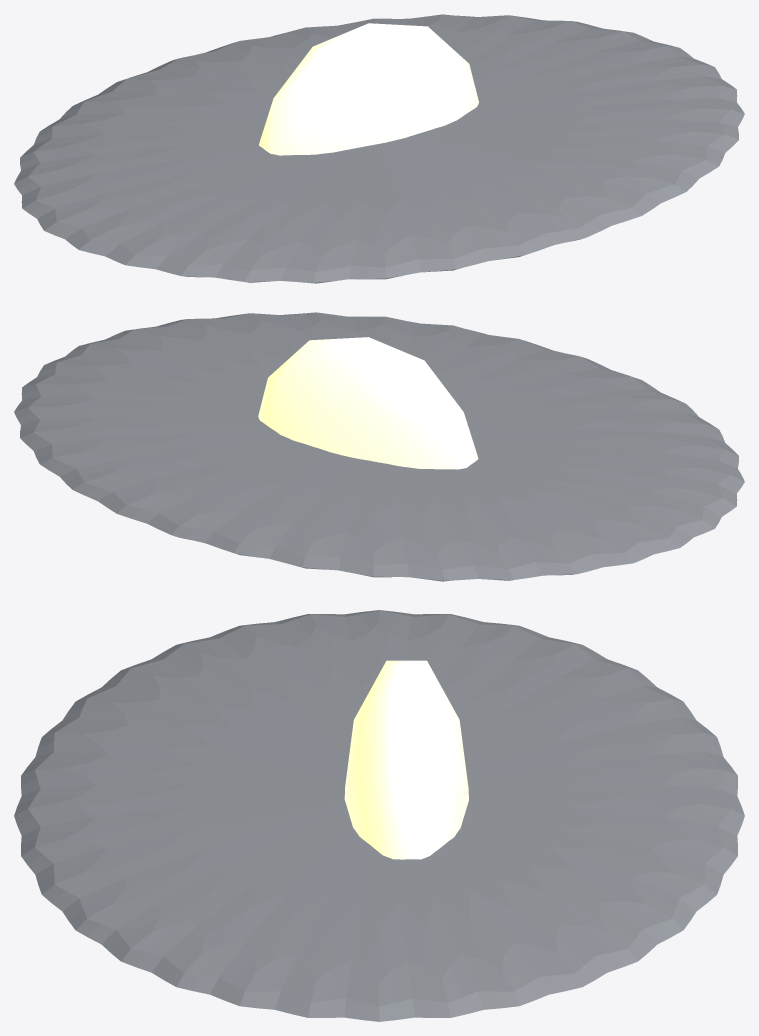
The model's file is ancient_rune_shield.glb.
3 views of the same model, one above another, from view 1: azimuth 30°, elevation 25°; view 2: azimuth 150°, elevation 25°; view 3: azimuth 270°, elevation 25° (orthographic). The views are drawn at different scales.
Parts seen in each view (by area): view 1: Cylinder, Icosphere; view 2: Cylinder, Icosphere; view 3: Cylinder, Icosphere.
Part boxes in pixels (x1,y1,x2,y2): Cylinder: (14, 14, 744, 283); Icosphere: (259, 23, 478, 155); Cylinder: (14, 312, 744, 581); Icosphere: (258, 337, 478, 469); Cylinder: (14, 610, 744, 1021); Icosphere: (344, 660, 468, 859).
Bounding box in the file's own units: 0.7152 × 0.24 × 0.5364.
